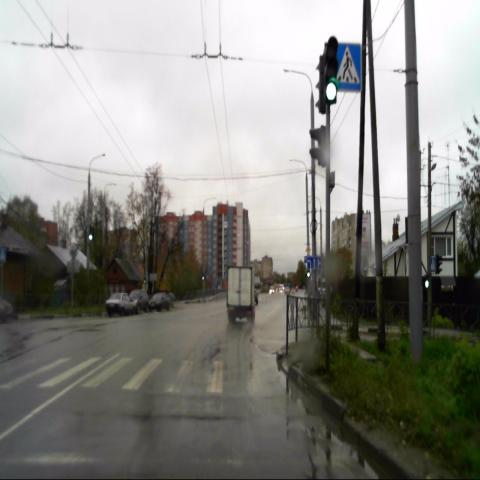5_15_1: (307, 255, 323, 269)
